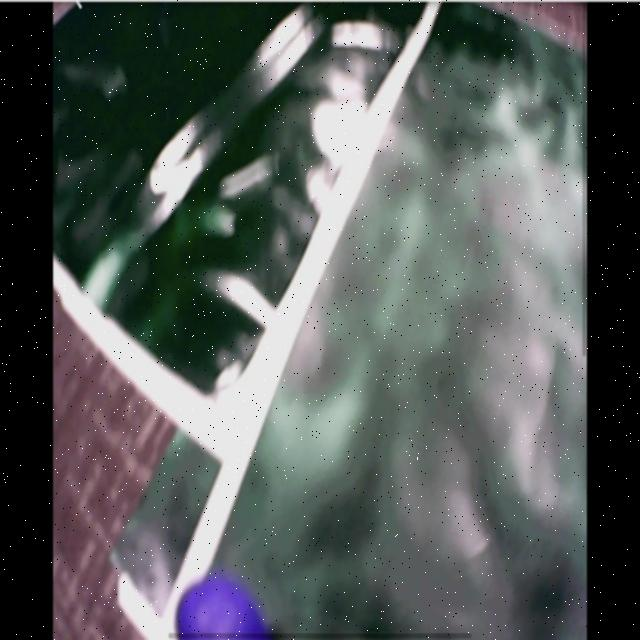ball: (176, 579, 263, 640)
